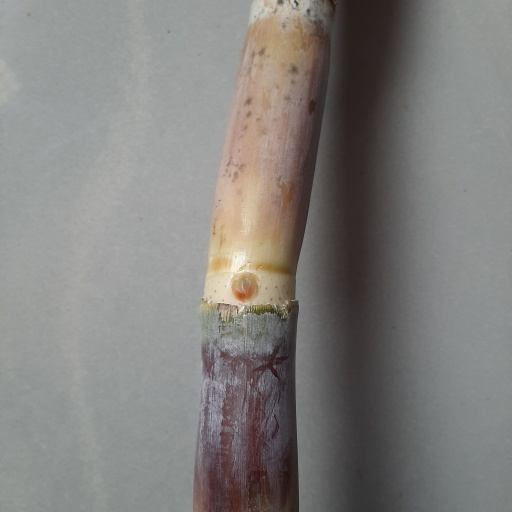Bud: (228, 270, 263, 303)
